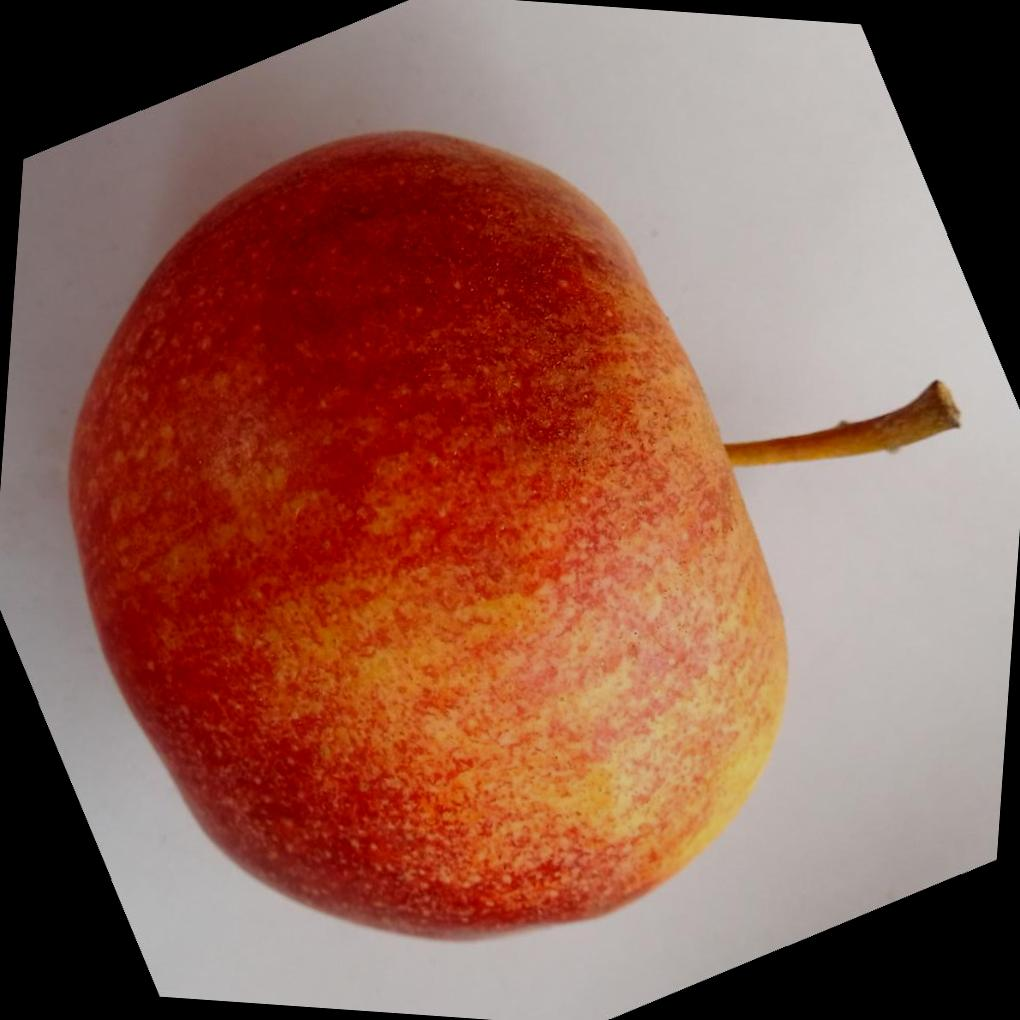FreshGuava: (69, 128, 965, 944)
